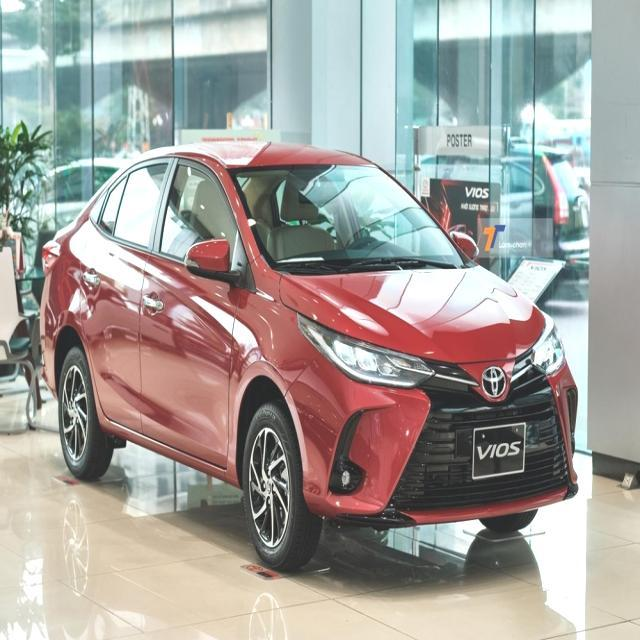ToyotaVios: (37, 137, 580, 572)
